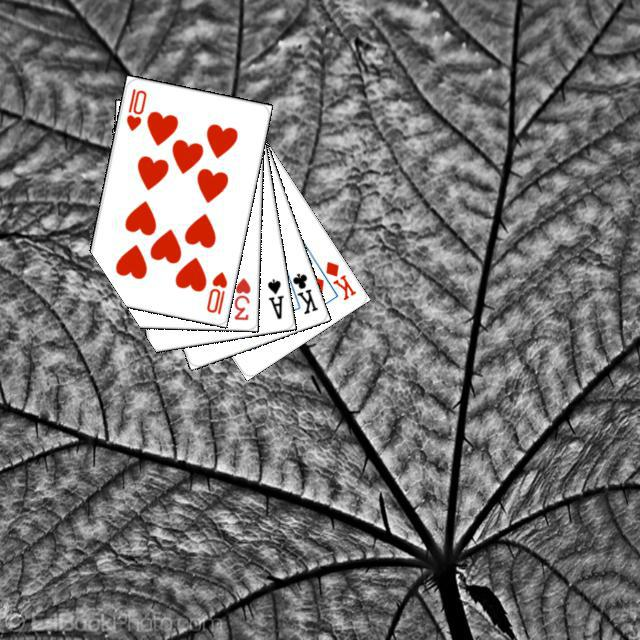10h: (201, 267, 229, 316), (121, 83, 148, 133)
3h: (229, 273, 252, 322)
As: (263, 274, 286, 321)
Kc: (281, 267, 320, 316)
Kd: (320, 256, 358, 302)
